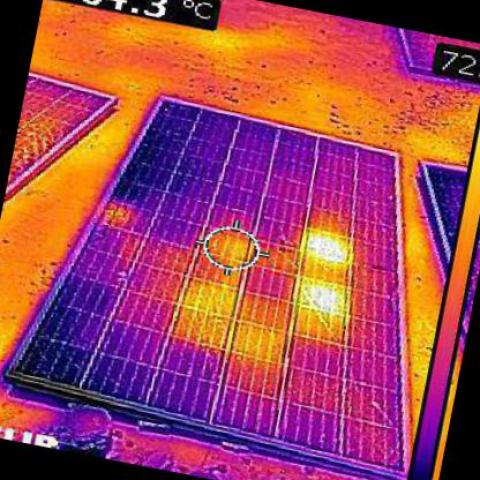fault: (296, 278, 341, 309), (308, 230, 346, 266)
